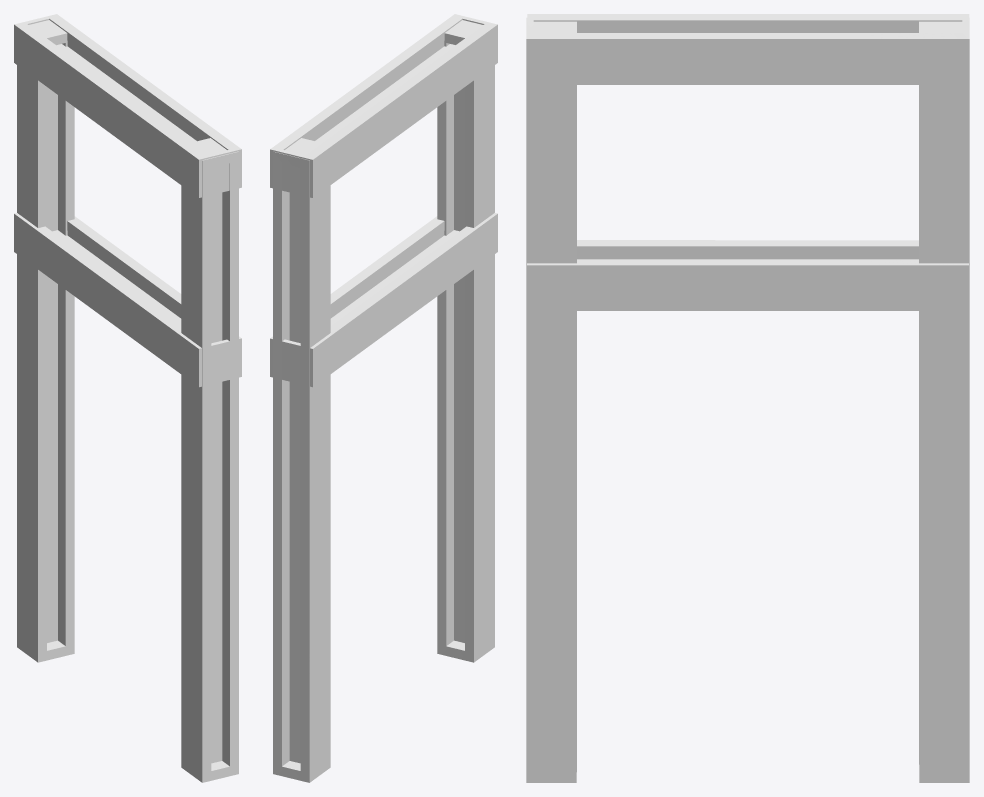
File: Pfb_GlassWall__3.fbx
3 renders of one model, left to right at view 1: azimuth 30°, elevation 25°; view 2: azimuth 150°, elevation 25°; view 3: azimuth 270°, elevation 25°, orthographic. The views are drawn at different scales.
Visible parts, largest first — view 1: Mat_SteelFrame_01 10; view 2: Mat_SteelFrame_01 10; view 3: Mat_SteelFrame_01 10.
Boxes of the visible parts, x1,y1,x2,y2 form: Mat_SteelFrame_01 10: (14,14,241,782); Mat_SteelFrame_01 10: (270,14,497,782); Mat_SteelFrame_01 10: (526,14,969,782).
Size of the model in its own units: 0.2893 by 4.01 by 2.16.
1 material, 1 textured.
